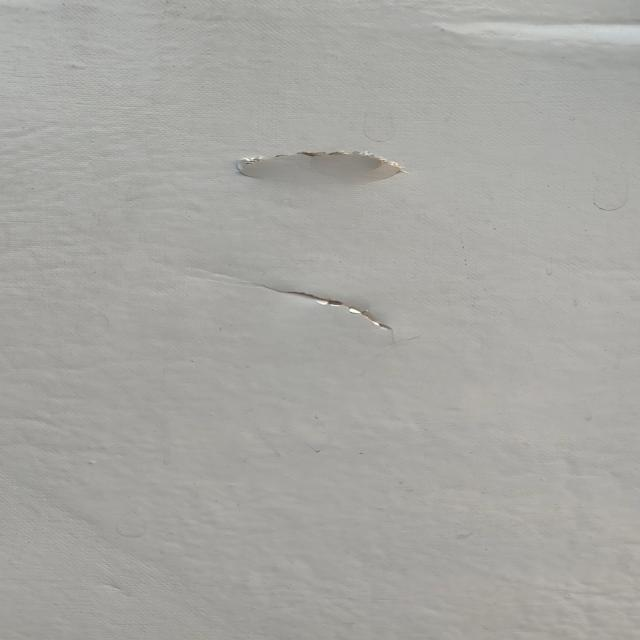Scratches: (199, 126, 455, 195), (254, 281, 421, 342)
